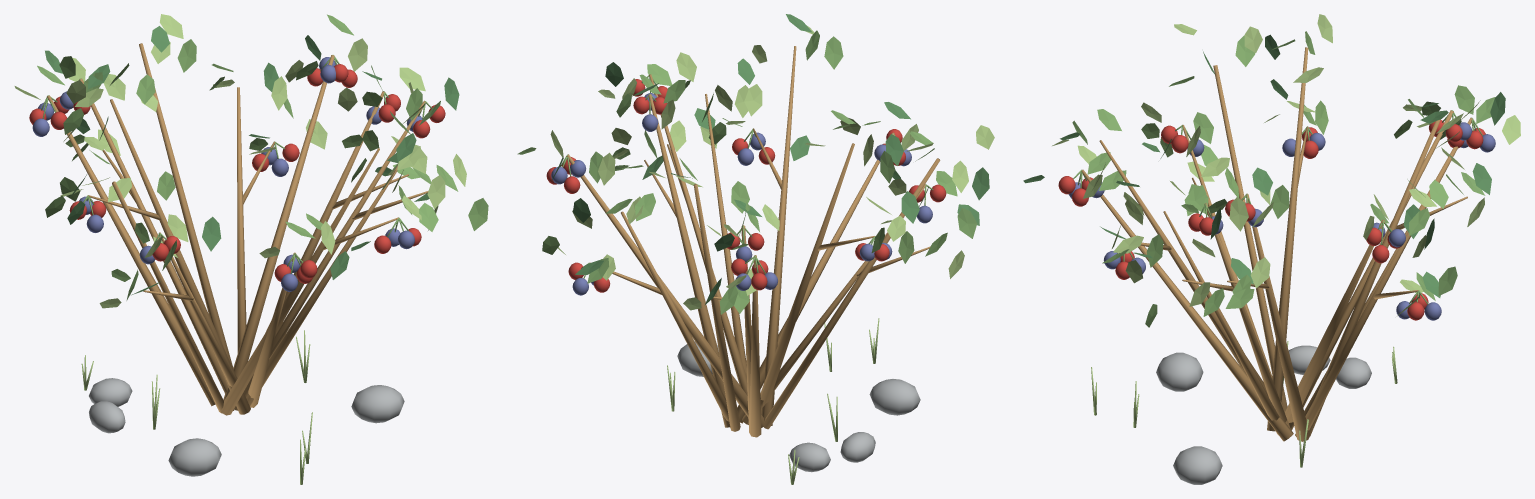
The model's file is berry_bush_a.glb.
3 views of the same model, side by side, from view 1: azimuth 30°, elevation 25°; view 2: azimuth 150°, elevation 25°; view 3: azimuth 270°, elevation 25° (orthographic). The views are drawn at different scales.
Parts seen in each view (by area): view 1: berry_bush_a_stem_1, berry_bush_a_stem_5, berry_bush_a_stem_3, berry_bush_a_stem_6, berry_bush_a_stem_10, berry_bush_a_stem_4, berry_bush_a_stem_12, berry_bush_a_stem_2, berry_bush_a_stem_7, berry_bush_ground_rock_1, berry_bush_ground_rock_2, berry_bush_a_stem_11 (+5 smaller); view 2: berry_bush_a_stem_10, berry_bush_a_stem_6, berry_bush_a_stem_0, berry_bush_a_stem_1, berry_bush_a_stem_3, berry_bush_a_stem_7, berry_bush_a_stem_2, berry_bush_a_stem_12, berry_bush_ground_rock_1, berry_bush_a_stem_5, berry_bush_a_stem_11, berry_bush_a_stem_9 (+5 smaller); view 3: berry_bush_a_stem_6, berry_bush_a_stem_9, berry_bush_a_stem_0, berry_bush_a_stem_7, berry_bush_a_stem_3, berry_bush_a_stem_1, berry_bush_a_stem_2, berry_bush_ground_rock_2, berry_bush_a_stem_11, berry_bush_ground_rock_1, berry_bush_a_stem_10, berry_bush_a_stem_4 (+5 smaller).
Boxes of the visible parts, x1,y1,x2,y2 form: berry_bush_a_stem_1: (223, 55, 334, 410); berry_bush_a_stem_5: (47, 95, 215, 406); berry_bush_a_stem_3: (139, 43, 233, 367); berry_bush_a_stem_6: (110, 99, 250, 414); berry_bush_a_stem_10: (220, 148, 379, 415); berry_bush_a_stem_4: (79, 78, 228, 393); berry_bush_a_stem_12: (234, 100, 425, 410); berry_bush_a_stem_2: (237, 87, 246, 352); berry_bush_a_stem_7: (112, 181, 223, 413); berry_bush_ground_rock_1: (168, 438, 221, 476); berry_bush_ground_rock_2: (351, 385, 404, 423); berry_bush_a_stem_11: (246, 165, 397, 406); berry_bush_a_stem_10: (761, 46, 796, 425); berry_bush_a_stem_6: (760, 143, 854, 413); berry_bush_a_stem_0: (648, 94, 730, 427); berry_bush_a_stem_1: (566, 154, 763, 427); berry_bush_a_stem_3: (693, 184, 740, 431); berry_bush_a_stem_7: (763, 158, 940, 429); berry_bush_a_stem_2: (621, 211, 730, 427); berry_bush_a_stem_12: (649, 74, 747, 394); berry_bush_ground_rock_1: (869, 379, 920, 415); berry_bush_a_stem_5: (749, 255, 761, 437); berry_bush_a_stem_11: (705, 94, 746, 376); berry_bush_a_stem_9: (737, 133, 894, 423); berry_bush_a_stem_6: (1267, 47, 1308, 431); berry_bush_a_stem_9: (1081, 169, 1293, 441); berry_bush_a_stem_0: (1245, 193, 1310, 441); berry_bush_a_stem_7: (1213, 65, 1287, 411); berry_bush_a_stem_3: (1309, 119, 1440, 436); berry_bush_a_stem_1: (1285, 219, 1385, 422); berry_bush_a_stem_2: (1295, 232, 1409, 436); berry_bush_ground_rock_2: (1173, 446, 1222, 484); berry_bush_a_stem_11: (1163, 211, 1279, 435); berry_bush_ground_rock_1: (1156, 352, 1203, 391); berry_bush_a_stem_10: (1099, 140, 1267, 394); berry_bush_a_stem_4: (1289, 110, 1453, 430).
Bounding box in the file's own units: 1.27 × 1.08 × 1.38.
